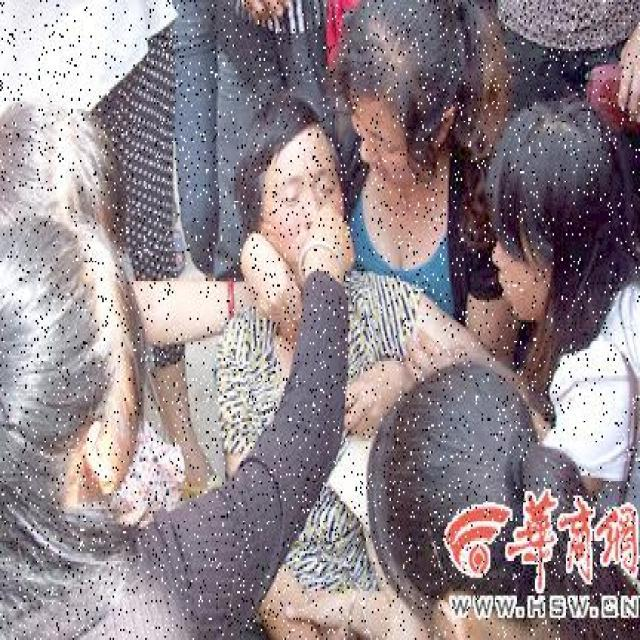fall: (224, 127, 382, 638)
